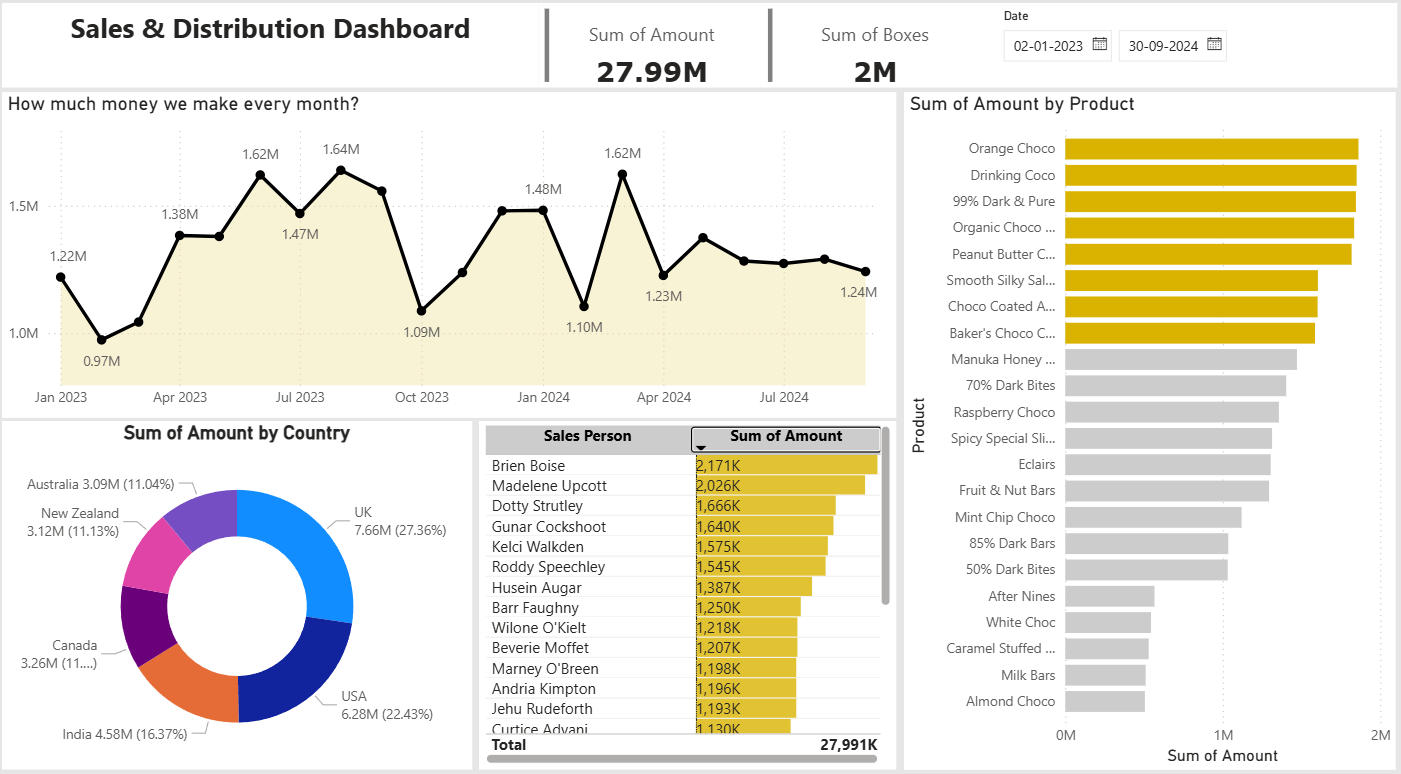

What the dashboard file says about the page in this screenshot:
{"tool":"powerbi","page":{"name":"Page 1","canvas":[1280,720],"ordinal":1},"visuals":[{"type":"lineChart","title":"How much money we make every month?","fields":{"Category":["data.Date.Variation.Date Hierarchy.Year","data.Date.Variation.Date Hierarchy.Quarter","data.Date.Variation.Date Hierarchy.Month","data.Date.Variation.Date Hierarchy.Day"],"Y":["Sum(data.Amount)"]},"box":[8,85.1,723.5,289.1],"z":0},{"type":"donutChart","fields":{"Category":["data.Country"],"Y":["Sum(data.Amount)"]},"box":[8,376.8,338.7,309.5],"z":1000},{"type":"tableEx","fields":{"Values":["data.Sales Person","Sum(data.Amount)"]},"box":[355.6,376.8,376,309.5],"z":2000},{"type":"clusteredBarChart","fields":{"Category":["data.Product"],"Y":["Sum(data.Amount)"]},"box":[737.7,85.1,506.3,601.2],"z":3000},{"type":"cardVisual","fields":{"Data":["Sum(data.Amount)","Sum(data.Boxes)"]},"box":[484.1,6.2,399,76.3],"z":4000},{"type":"slicer","fields":{"Values":["data.Date"]},"box":[936.4,6.2,307.7,75.4],"z":5000},{"type":"textbox","box":[8,6.2,424.7,75.4],"z":6000}]}

Visuals, with their boxes in screenshot pixels (x1, y1, x2, y2), scaled from the page's 1280x720 canvas onto the 1401x774 screenshot:
"How much money we make every month?" lineChart: 9:91:801:402
donutChart - data.Country x Sum(data.Amount): 9:405:379:738
tableEx - data.Sales Person x Sum(data.Amount): 389:405:801:738
clusteredBarChart - data.Product x Sum(data.Amount): 807:91:1362:738
cardVisual - Sum(data.Amount) x Sum(data.Boxes): 530:7:967:89
slicer - data.Date: 1025:7:1362:88
textbox: 9:7:474:88
